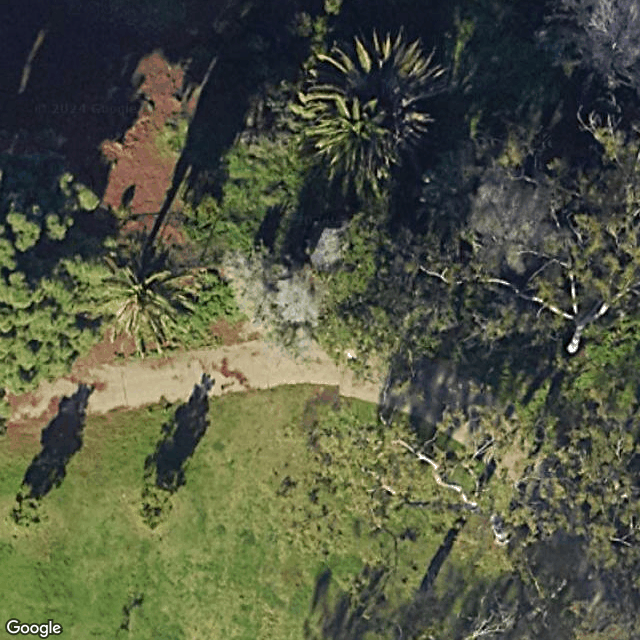palm: (281, 20, 460, 202), (70, 224, 212, 363)
